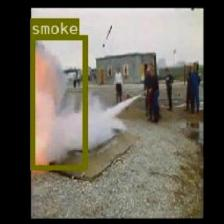smoke: (29, 34, 86, 170)
